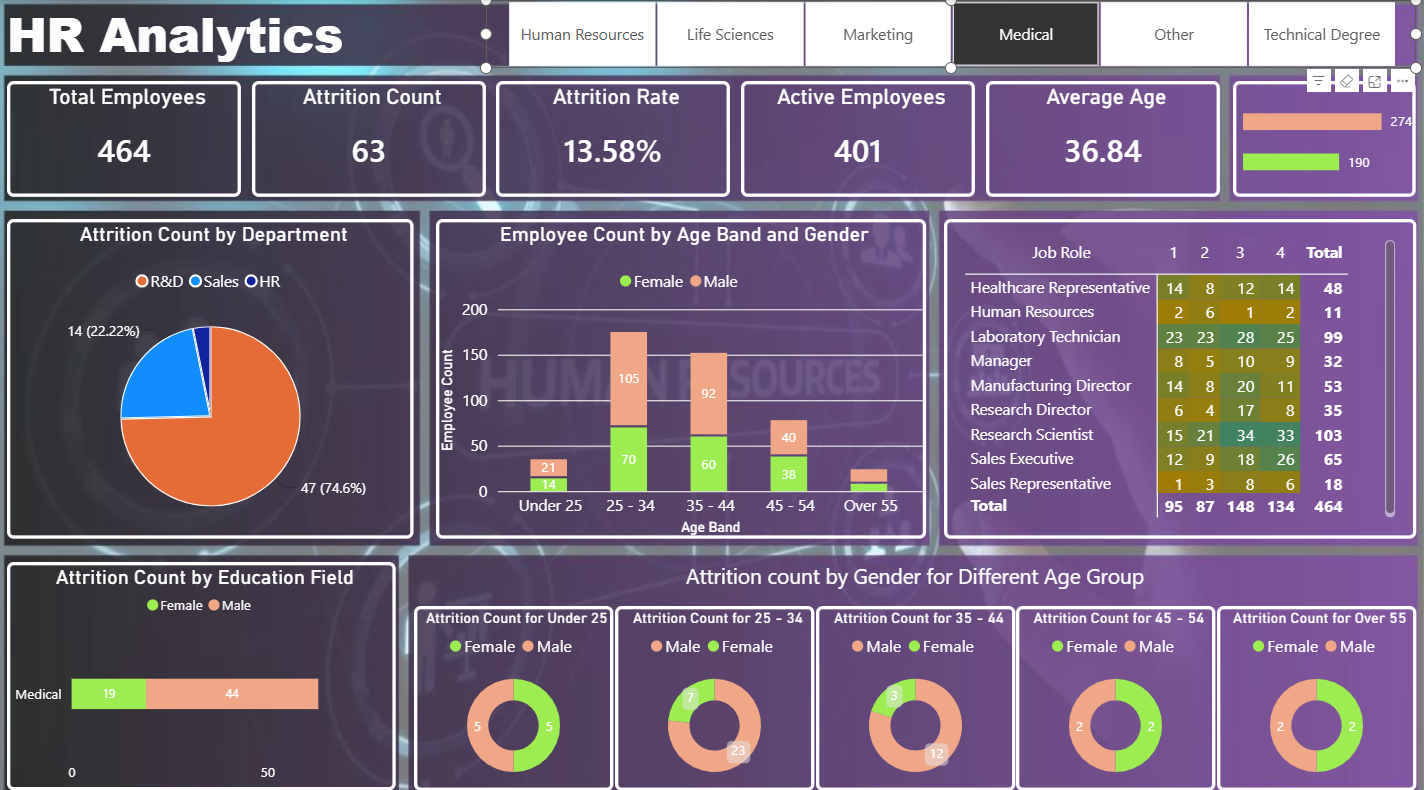

What the dashboard file says about the page in this screenshot:
{"tool":"powerbi","page":{"name":"Page 1","canvas":[1280,720],"ordinal":0},"visuals":[{"type":"textbox","box":[7.2,0,430,61],"z":0},{"type":"card","title":"Total Employees","fields":{"Values":["Key Measures.Total Employees"]},"box":[7.2,72.7,210,104],"z":1000},{"type":"card","title":"Attrition Count","fields":{"Values":["Key Measures.Attrition Count"]},"box":[226.9,72.7,210,104],"z":2000},{"type":"card","title":"Attrition Rate","fields":{"Values":["Key Measures.Attrition Rate"]},"box":[446.6,72.7,210,104],"z":3000},{"type":"card","title":"Active Employees","fields":{"Values":["Key Measures.Active Employees"]},"box":[666.4,72.7,210,104],"z":4000},{"type":"card","title":"Average Age","fields":{"Values":["Avg(HR Data.Age)"]},"box":[886.1,72.7,210,104],"z":5000},{"type":"clusteredBarChart","fields":{"Category":["HR Data.Gender"],"Y":["Key Measures.Total Employees"]},"box":[1107.8,72.7,164.3,104.1],"z":6000},{"type":"pieChart","fields":{"Category":["HR Data.Department"],"Y":["Key Measures.Attrition Count"]},"box":[7.2,196.6,365.4,287.3],"z":7000},{"type":"columnChart","fields":{"Category":["HR Data.CF_age band"],"Series":["HR Data.Gender"],"Y":["Key Measures.Total Employees"]},"box":[392.3,196.6,439.9,287.3],"z":8000},{"type":"pivotTable","fields":{"Columns":["HR Data.Job Satisfaction"],"Rows":["HR Data.Job Role"],"Values":["Key Measures.Total Employees"]},"box":[848.4,196.6,423.7,287.3],"z":9000},{"type":"barChart","title":"Attrition Count by Education Field","fields":{"Category":["HR Data.Education Field"],"Series":["HR Data.Gender"],"Y":["Key Measures.Attrition Count"]},"box":[7.2,504.5,349.2,204.7],"z":10000},{"type":"donutChart","title":"Attrition Count for Under 25","fields":{"Category":["HR Data.Gender"],"Y":["Key Measures.Attrition Count"]},"box":[372.6,544,178.7,166.1],"z":11000},{"type":"textbox","box":[372.6,504.5,899.6,39.5],"z":12000},{"type":"donutChart","title":"Attrition Count for 25 - 34","fields":{"Category":["HR Data.Gender"],"Y":["Key Measures.Attrition Count"]},"box":[552.8,544,178.7,166.1],"z":12001},{"type":"donutChart","title":"Attrition Count for 35 - 44","fields":{"Category":["HR Data.Gender"],"Y":["Key Measures.Attrition Count"]},"box":[733,544,178.7,166.1],"z":12002},{"type":"donutChart","title":"Attrition Count for 45 - 54","fields":{"Category":["HR Data.Gender"],"Y":["Key Measures.Attrition Count"]},"box":[913.2,544,178.7,166.1],"z":12003},{"type":"donutChart","title":"Attrition Count for Over 55","fields":{"Category":["HR Data.Gender"],"Y":["Key Measures.Attrition Count"]},"box":[1093.5,544,178.7,166.1],"z":12004},{"type":"slicer","fields":{"Values":["HR Data.Education Field"]},"box":[437.2,0,834.9,61],"z":12005}]}

Visuals, with their boxes in screenshot pixels (x1, y1, x2, y2), scaled from the page's 1280x720 canvas onto the 1424x790 screenshot:
textbox: select_region(8, 0, 486, 67)
"Total Employees" card: select_region(8, 80, 242, 194)
"Attrition Count" card: select_region(252, 80, 486, 194)
"Attrition Rate" card: select_region(497, 80, 730, 194)
"Active Employees" card: select_region(741, 80, 975, 194)
"Average Age" card: select_region(986, 80, 1219, 194)
clusteredBarChart - HR Data.Gender x Key Measures.Total Employees: select_region(1232, 80, 1415, 194)
pieChart - HR Data.Department x Key Measures.Attrition Count: select_region(8, 216, 415, 531)
columnChart - HR Data.CF_age band x HR Data.Gender: select_region(436, 216, 926, 531)
pivotTable - HR Data.Job Satisfaction x HR Data.Job Role: select_region(944, 216, 1415, 531)
"Attrition Count by Education Field" barChart: select_region(8, 554, 396, 778)
"Attrition Count for Under 25" donutChart: select_region(415, 597, 613, 779)
textbox: select_region(415, 554, 1415, 597)
"Attrition Count for 25 - 34" donutChart: select_region(615, 597, 814, 779)
"Attrition Count for 35 - 44" donutChart: select_region(815, 597, 1014, 779)
"Attrition Count for 45 - 54" donutChart: select_region(1016, 597, 1215, 779)
"Attrition Count for Over 55" donutChart: select_region(1217, 597, 1415, 779)
slicer - HR Data.Education Field: select_region(486, 0, 1415, 67)
